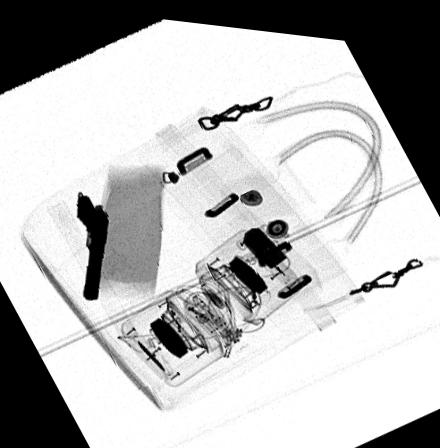Gun: (75, 193, 108, 297)
